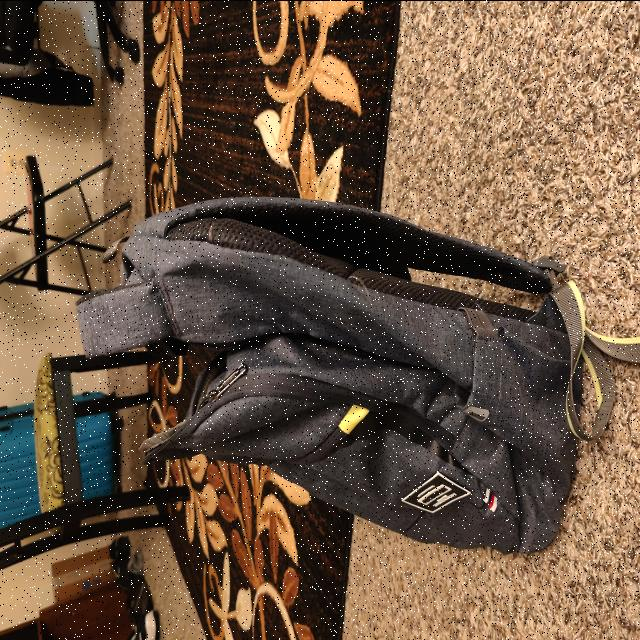bag: (76, 196, 594, 524)
